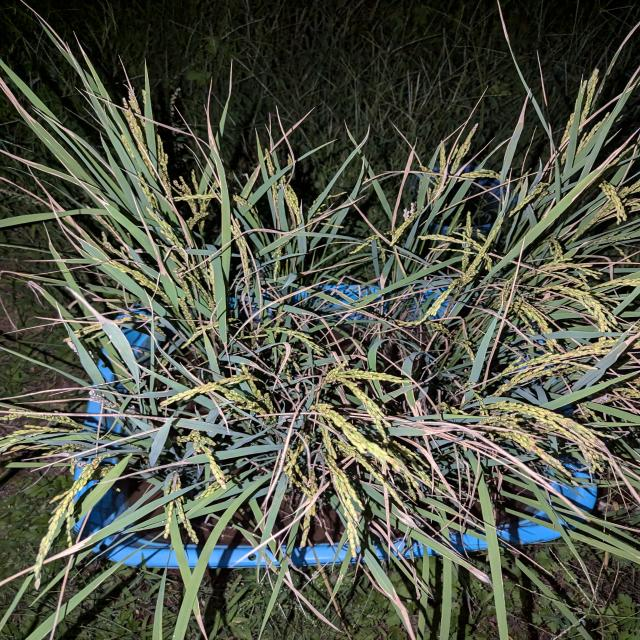9month_ine: (0, 29, 244, 359), (396, 55, 640, 384), (178, 383, 418, 635), (0, 403, 230, 640)
